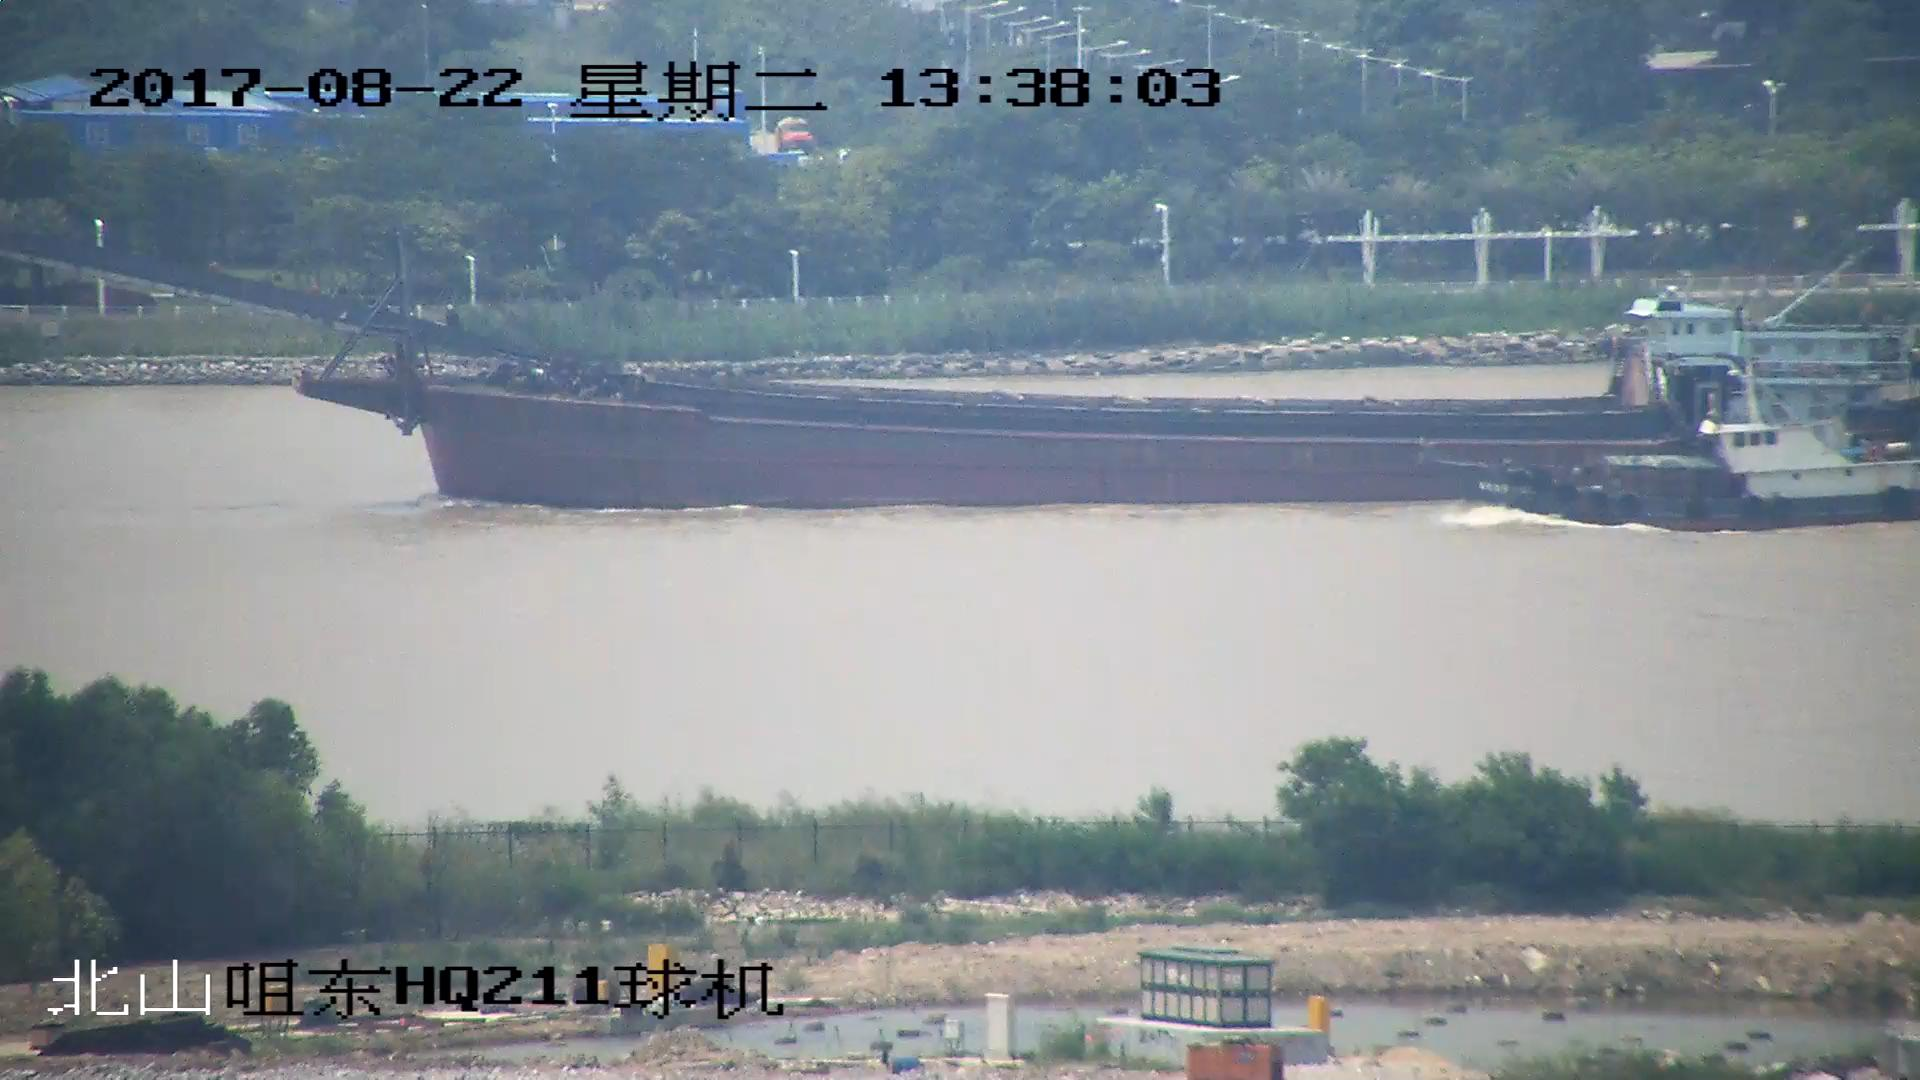bulk cargo carrier: (1, 216, 1907, 505)
passenger ship: (1497, 363, 1920, 528)
